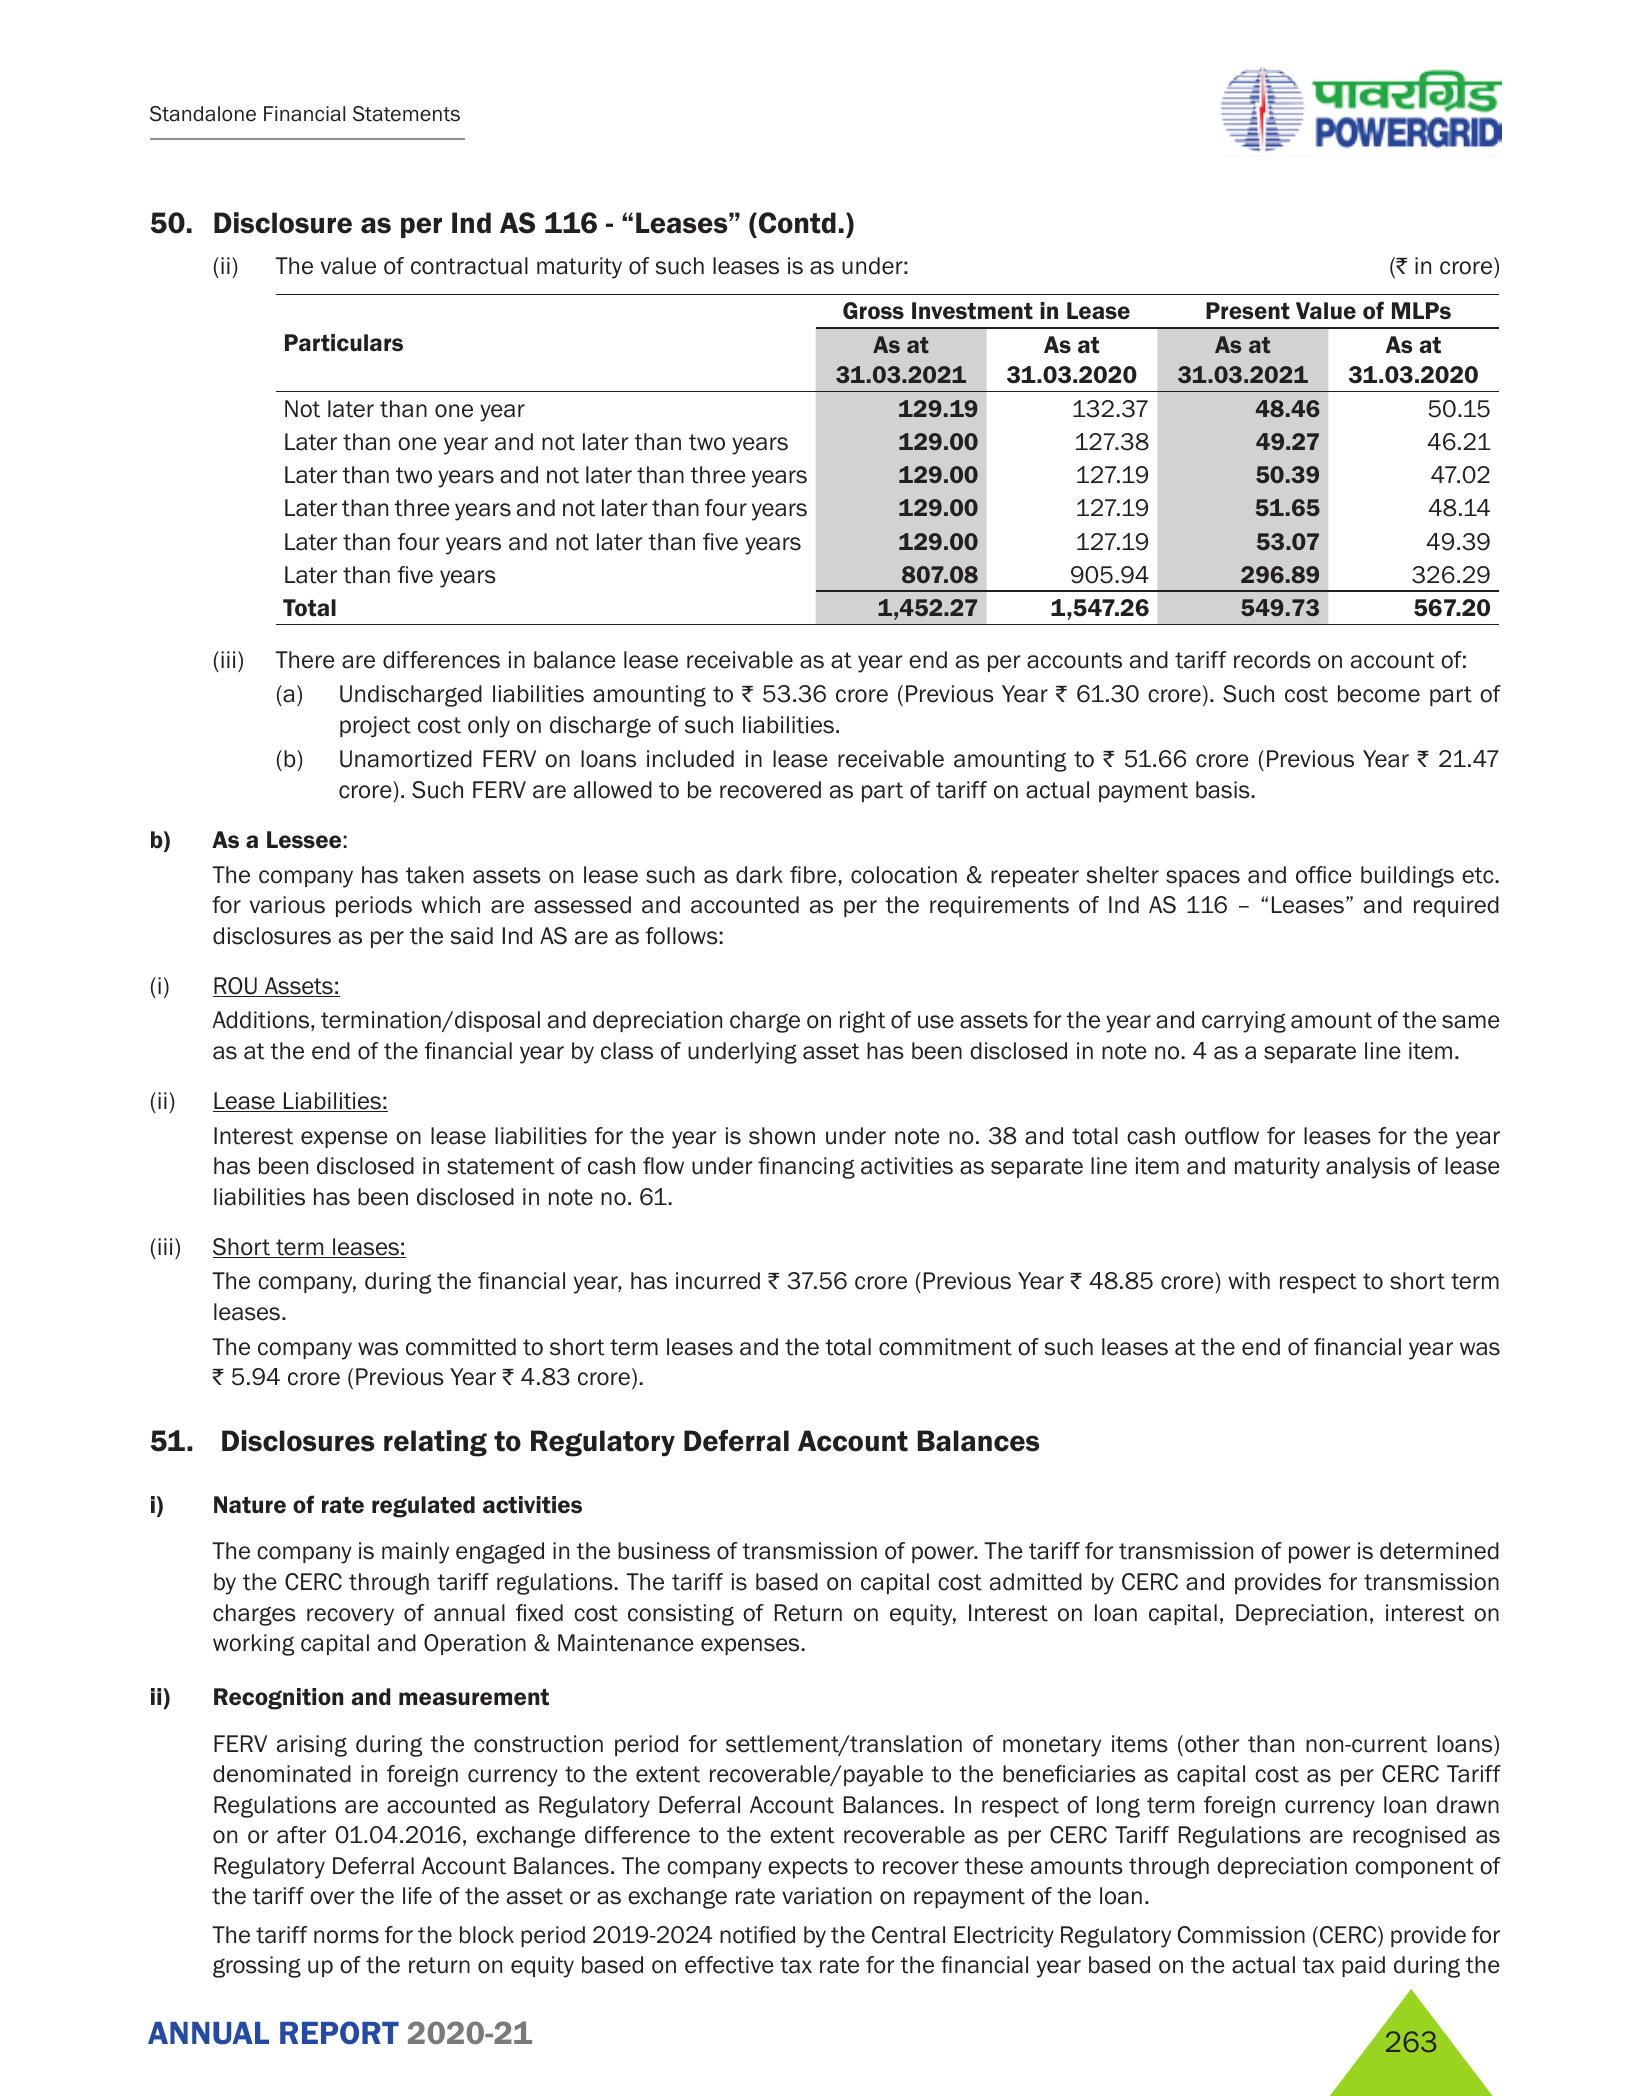Footer: (0, 1968, 1650, 2096)
Header: (0, 0, 1650, 180)
Table: (257, 289, 1521, 633)
